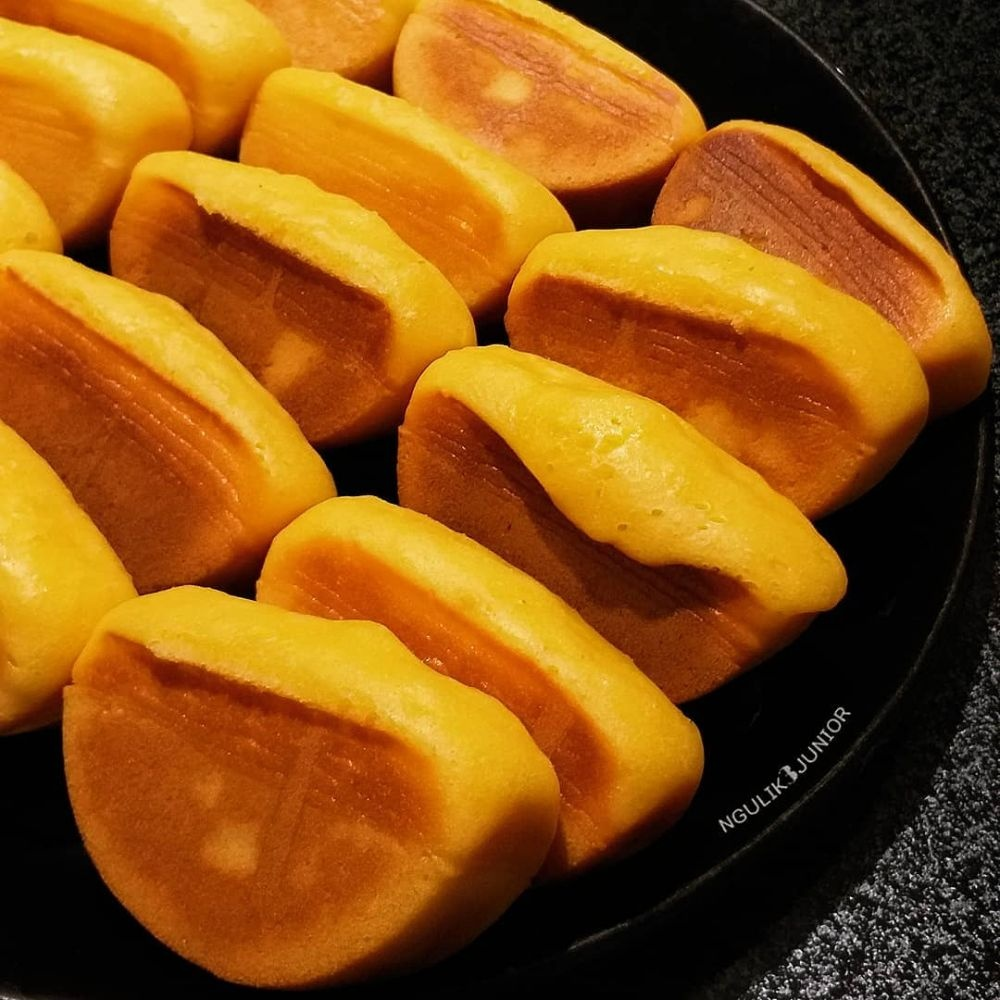pukis: (37, 563, 573, 985)
